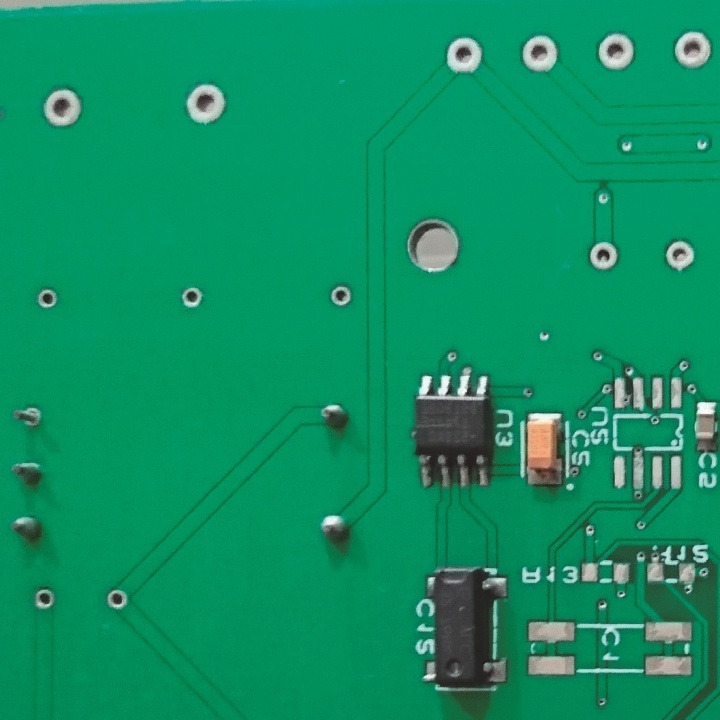F: (38, 83, 86, 130), (182, 80, 226, 131), (595, 28, 638, 75), (443, 34, 486, 78), (671, 28, 714, 71), (519, 30, 560, 75), (662, 238, 698, 275), (587, 238, 622, 275), (9, 402, 45, 430), (325, 280, 356, 307), (105, 584, 130, 613), (179, 281, 203, 311), (36, 285, 59, 313), (30, 586, 57, 606)
